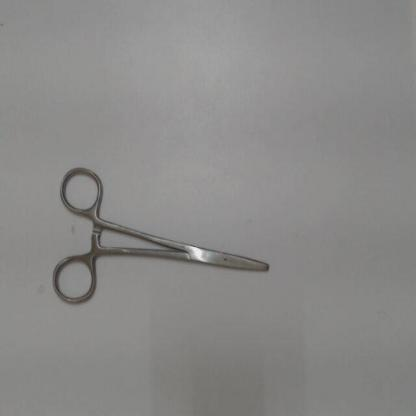Mayo Needle Holder: (44, 157, 280, 314)
